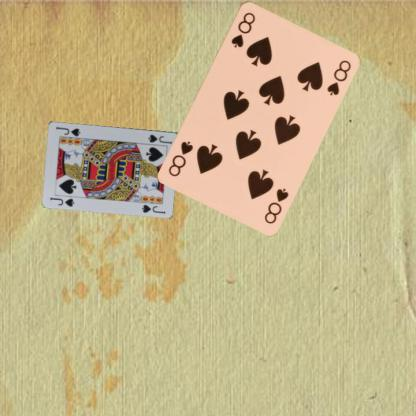8s: (261, 185, 290, 225), (228, 9, 257, 48)
Js: (48, 195, 76, 208), (146, 132, 173, 145)
